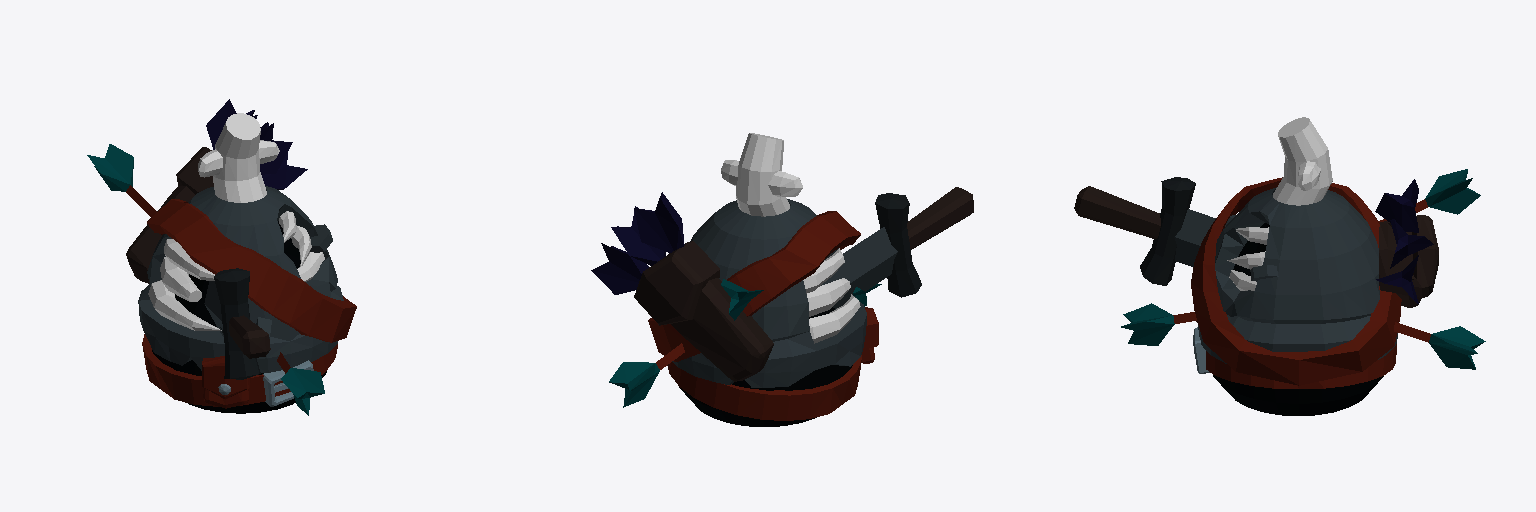
The model's file is character_template.553.obj.
3 views of the same model, side by side, from view 1: azimuth 30°, elevation 25°; view 2: azimuth 150°, elevation 25°; view 3: azimuth 270°, elevation 25° (orthographic).
Visible parts, largest first — view 1: character_template.553_Cube.7669; view 2: character_template.553_Cube.7669; view 3: character_template.553_Cube.7669.
Boxes of the visible parts, <box> form: character_template.553_Cube.7669: <box>87,99,356,415</box>; character_template.553_Cube.7669: <box>591,133,973,426</box>; character_template.553_Cube.7669: <box>1074,117,1485,415</box>.
Bounding box in the file's own units: 0.8661 × 1.01 × 1.41.